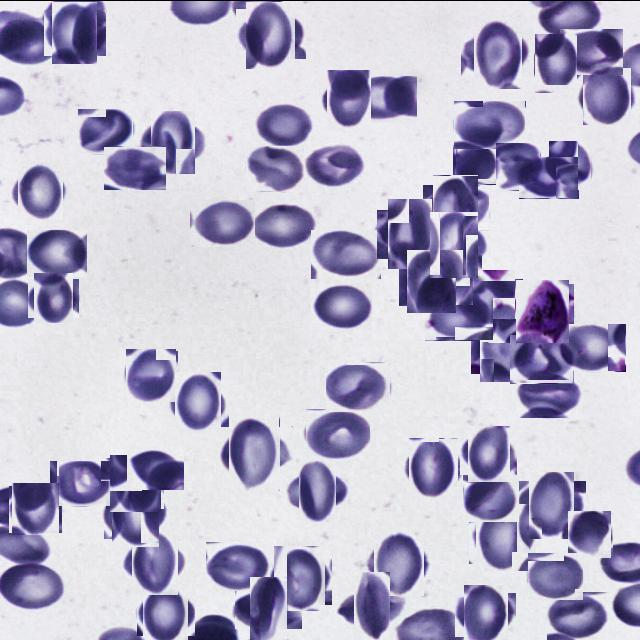difficult: (514, 281, 572, 339)
red blood cell: (222, 419, 286, 483), (241, 2, 301, 62), (472, 506, 532, 566), (468, 22, 528, 82), (382, 204, 442, 264), (454, 100, 526, 149), (311, 229, 381, 278), (347, 74, 418, 122), (370, 534, 428, 592), (522, 474, 580, 532), (270, 548, 328, 606), (424, 215, 482, 273), (306, 408, 370, 460), (326, 361, 391, 412), (557, 323, 626, 371), (425, 292, 494, 340), (402, 252, 460, 309), (206, 541, 270, 591), (250, 202, 319, 248), (127, 534, 183, 590), (108, 486, 164, 542), (475, 322, 531, 378), (510, 334, 574, 383), (406, 441, 462, 496), (428, 179, 483, 235), (190, 199, 255, 246), (516, 372, 583, 417), (50, 459, 114, 506), (560, 28, 624, 75), (547, 591, 609, 639), (108, 455, 162, 510), (309, 282, 372, 329), (27, 229, 88, 277), (146, 115, 200, 169), (464, 274, 518, 328), (580, 69, 634, 123), (170, 376, 224, 430), (344, 579, 398, 633), (48, 5, 102, 59), (242, 582, 295, 636), (323, 73, 375, 127), (306, 140, 367, 186), (246, 145, 305, 192), (14, 164, 66, 217), (104, 144, 166, 188), (140, 586, 192, 638), (125, 349, 177, 401), (460, 588, 512, 640), (528, 552, 584, 600), (463, 474, 519, 521), (256, 102, 314, 146), (427, 249, 478, 299), (78, 108, 133, 154), (519, 156, 579, 198), (127, 445, 184, 489), (292, 465, 342, 515), (531, 38, 581, 88), (464, 428, 514, 478), (10, 484, 60, 534), (496, 142, 541, 190), (548, 142, 594, 188), (566, 511, 612, 556), (31, 275, 76, 320), (453, 144, 500, 184)
